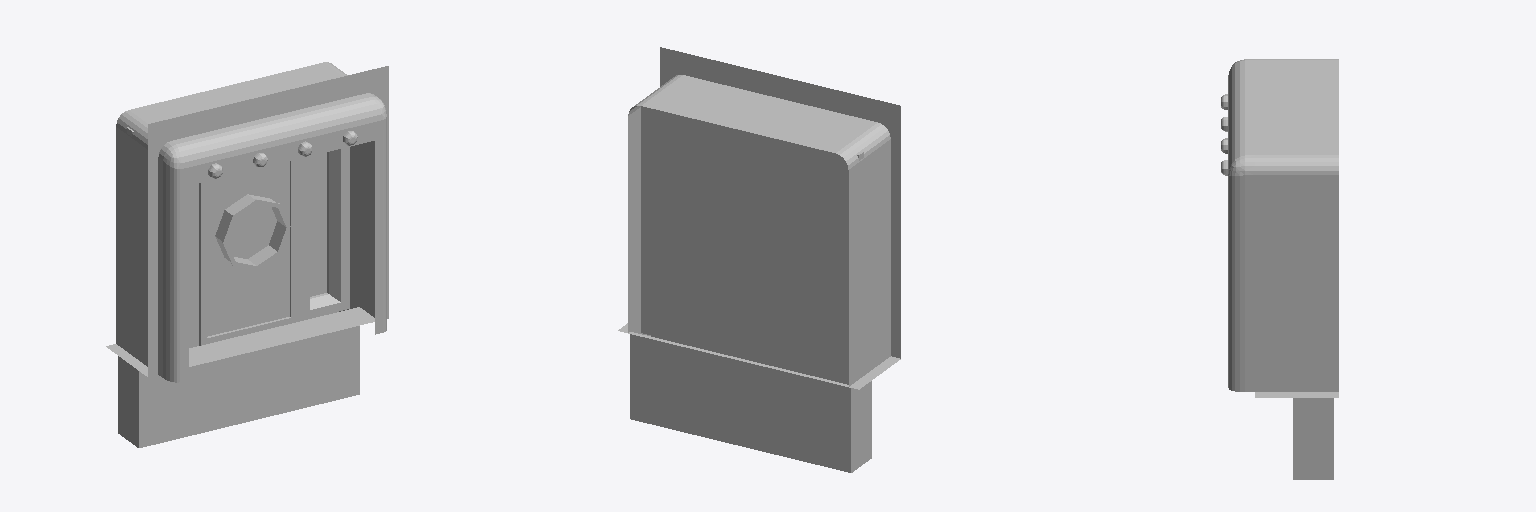
File: SquareDoor.obj
The picture shows the model from 3 angles: view 1: azimuth 30°, elevation 25°; view 2: azimuth 150°, elevation 25°; view 3: azimuth 270°, elevation 25°; orthographic projection.
Parts seen in each view (by area): view 1: Wall_Plane.433; view 2: Wall_Plane.433; view 3: Wall_Plane.433.
Part boxes in pixels (x1,y1,x2,y2): Wall_Plane.433: (106,62,388,447); Wall_Plane.433: (618,47,900,472); Wall_Plane.433: (1221,59,1338,479).
Size of the model in its own units: 20 by 26.94 by 8.51.